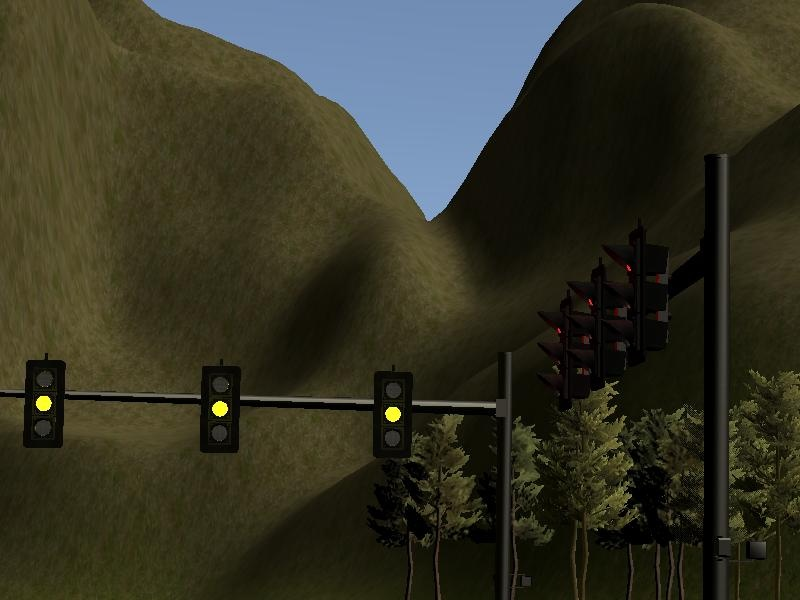YELLOW: (370, 369, 414, 460), (198, 364, 242, 455), (23, 356, 67, 447)
